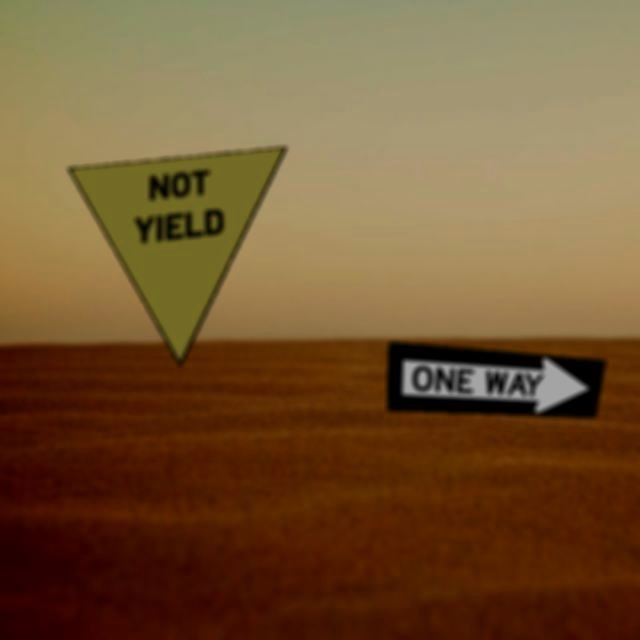NOT_YIELD: (67, 146, 287, 366)
ONE_WAY_ right: (386, 341, 606, 418)
